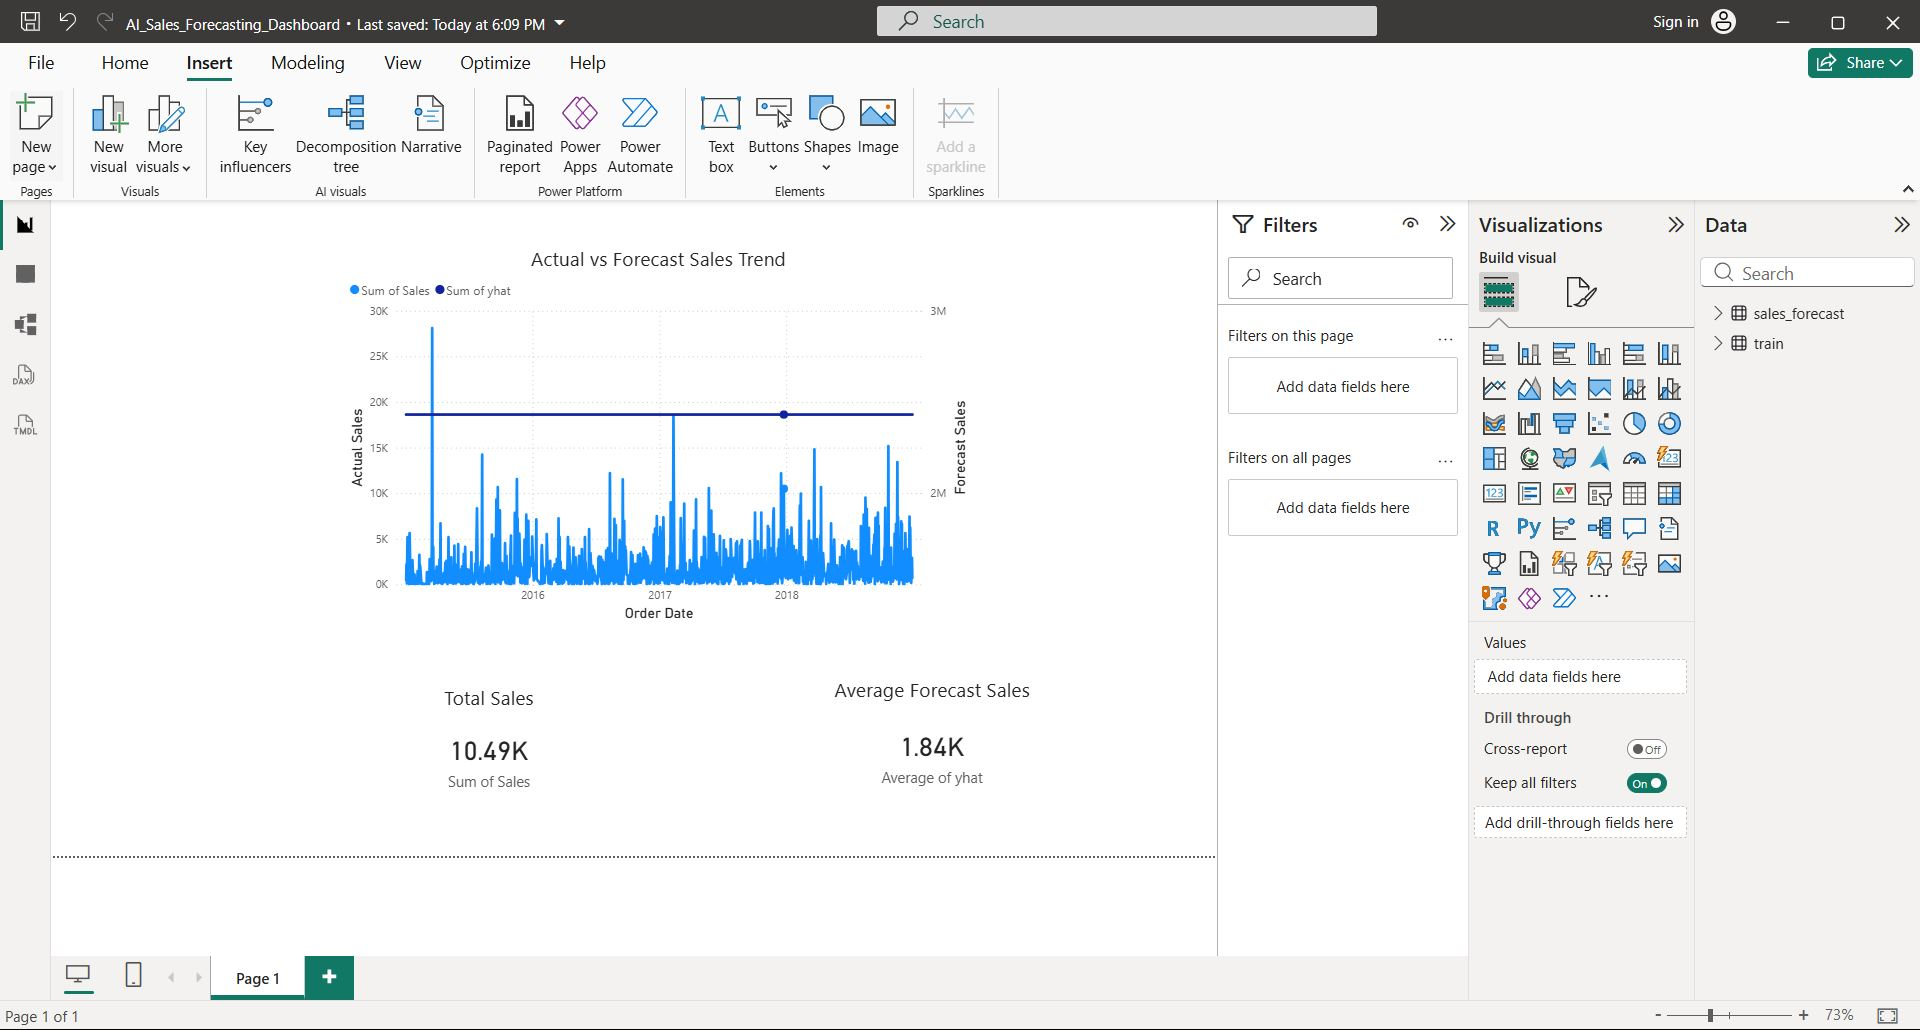

The page's visual inventory and layout, read from the dashboard file:
{"tool":"powerbi","page":{"name":"Page 1","canvas":[1280,720],"ordinal":0},"visuals":[{"type":"lineChart","title":"Actual vs Forecast Sales Trend","fields":{"Y":["Sum(train.Sales)"],"Category":["train.Order Date","sales_forecast.ds"],"Y2":["Sum(sales_forecast.yhat)"]},"box":[322.5,49.4,688.9,417.2],"z":0},{"type":"card","title":"Total Sales","fields":{"Values":["Sum(train.Sales)"]},"box":[322.5,531,317,135.8],"z":1000},{"type":"card","title":"Average Forecast Sales","fields":{"Values":["Avg(sales_forecast.yhat)"]},"box":[841.2,522.8,252.5,144.1],"z":2000}]}

Visuals, with their boxes in screenshot pixels (x1, y1, x2, y2):
"Actual vs Forecast Sales Trend" lineChart: left=429, top=35, right=1474, bottom=668
"Total Sales" card: left=429, top=765, right=910, bottom=971
"Average Forecast Sales" card: left=1216, top=753, right=1598, bottom=971
